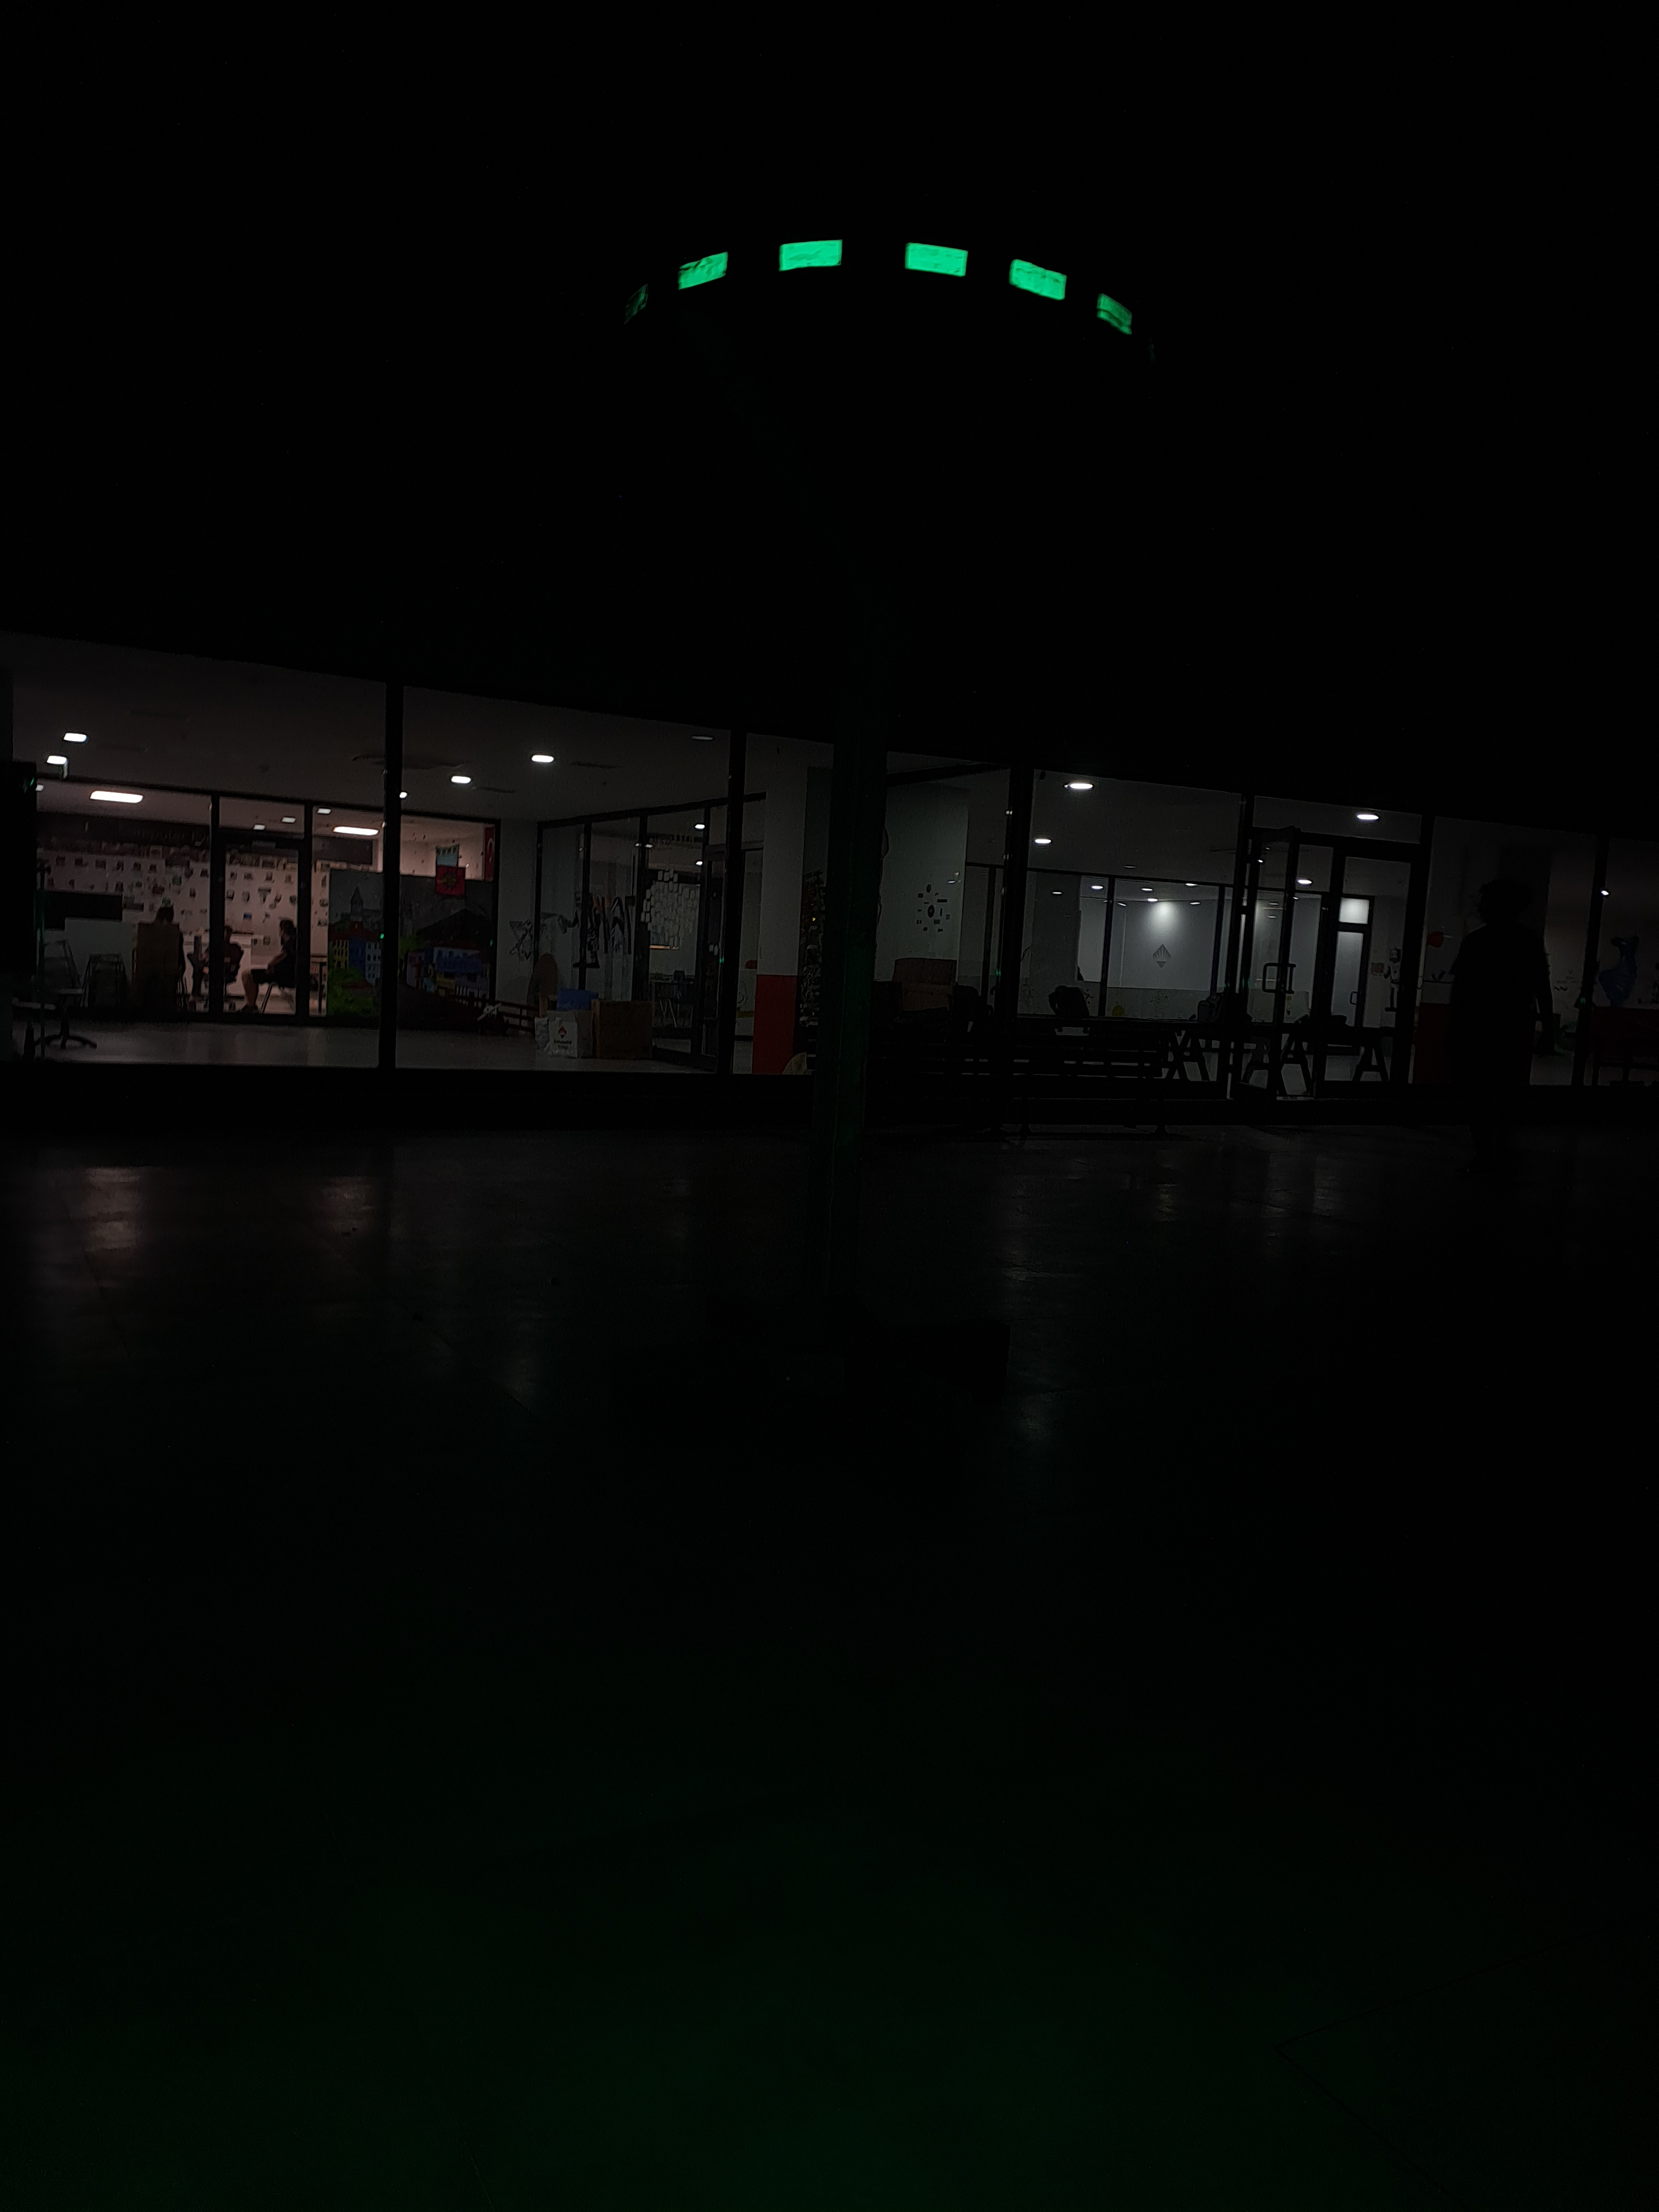hoop: (666, 219, 1140, 347)
